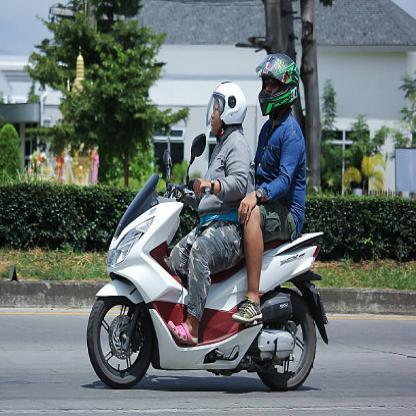Motorcycle: (86, 160, 327, 391)
